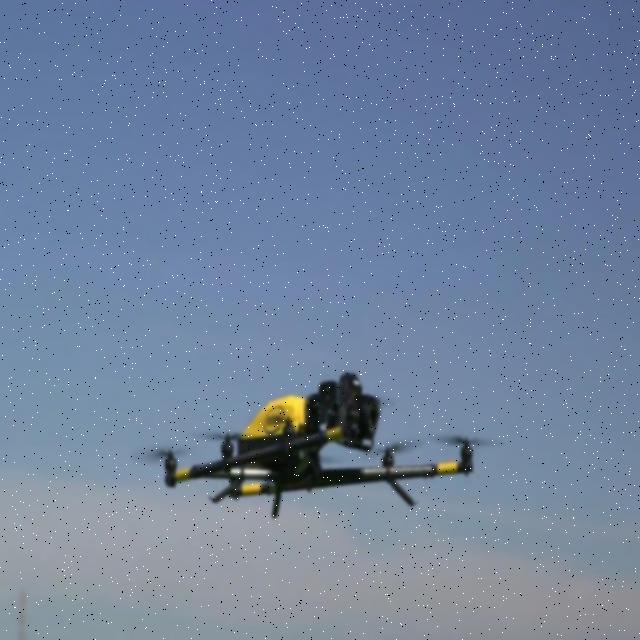UAV: (136, 372, 504, 518)
